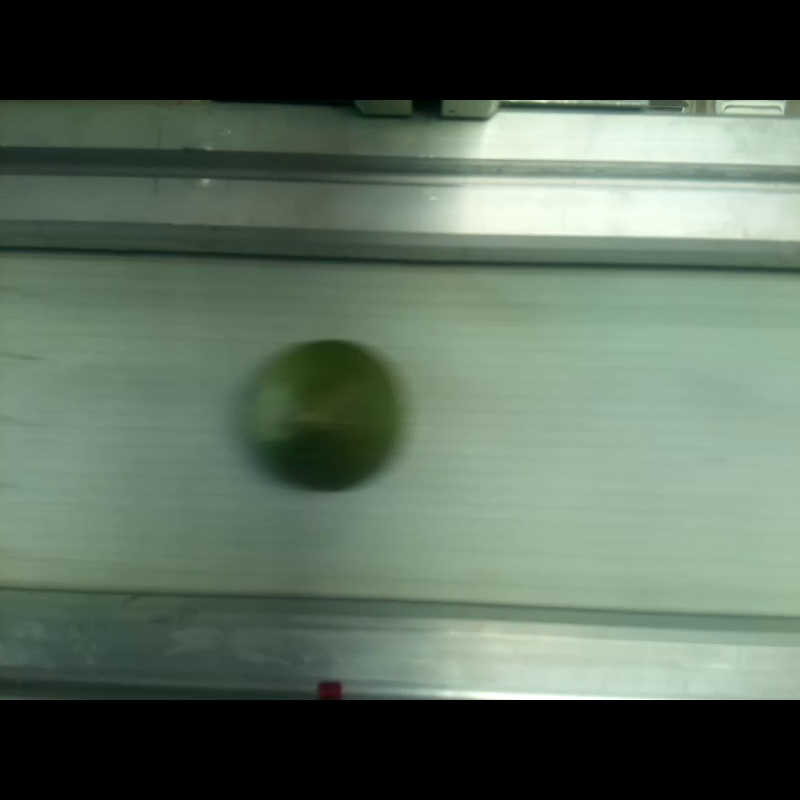lime: (250, 342, 396, 489)
